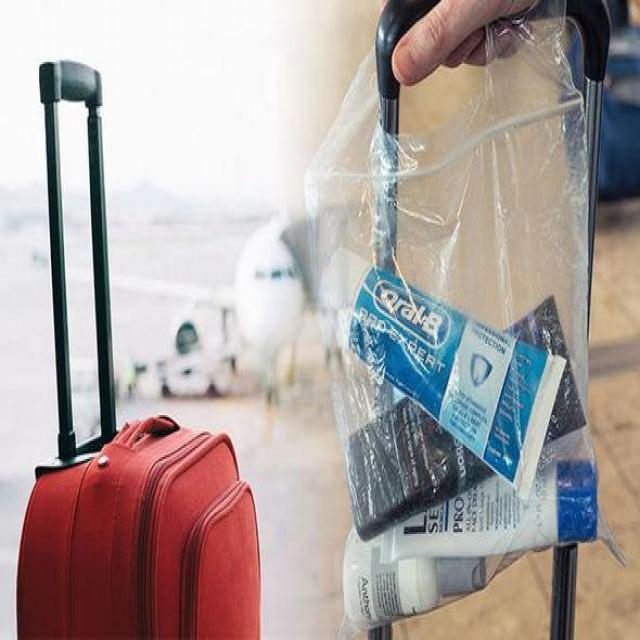others: (21, 56, 264, 640), (362, 287, 581, 627)
plastic_bag: (322, 98, 603, 613)
